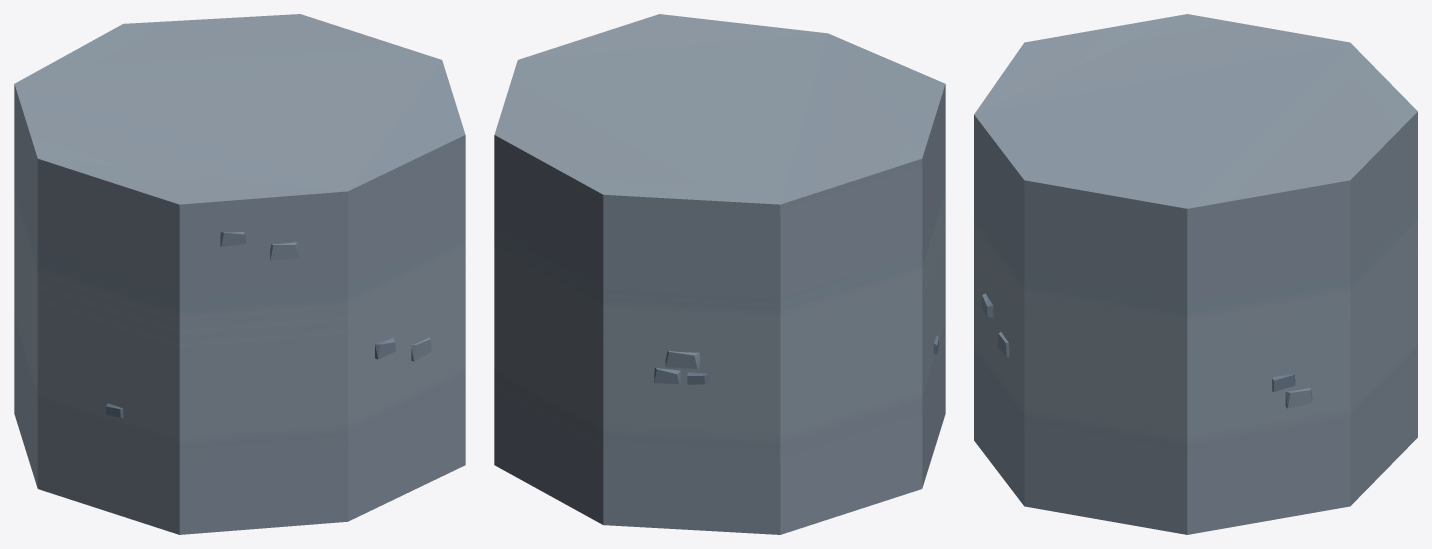
Rendered from Castle-tower-middle-small.fbx.
3 views of the same model, side by side, from view 1: azimuth 30°, elevation 25°; view 2: azimuth 150°, elevation 25°; view 3: azimuth 270°, elevation 25° (orthographic).
Parts seen in each view (by area): view 1: Castle-tower-middle-small; view 2: Castle-tower-middle-small; view 3: Castle-tower-middle-small.
Boxes of the visible parts, x1,y1,x2,y2 form: Castle-tower-middle-small: [14, 14, 465, 534]; Castle-tower-middle-small: [494, 14, 945, 534]; Castle-tower-middle-small: [974, 14, 1417, 534].
Size of the model in its own units: 3.48 by 2.74 by 3.35.
